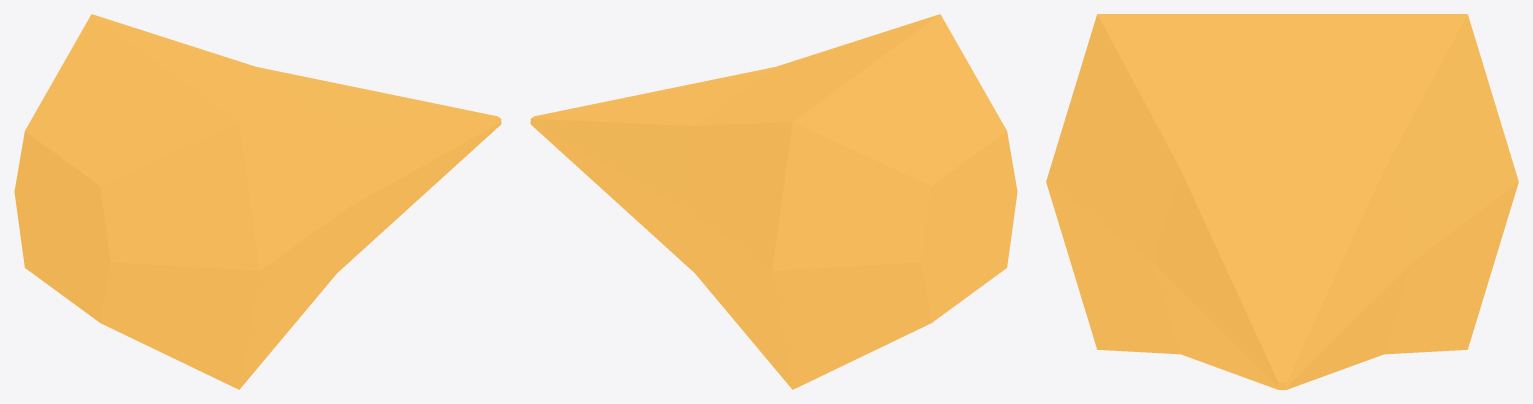
The model's file is bulletFlash.glb.
3 views of the same model, side by side, from view 1: azimuth 30°, elevation 25°; view 2: azimuth 150°, elevation 25°; view 3: azimuth 270°, elevation 25° (orthographic). The views are drawn at different scales.
Visible parts, largest first — view 1: Cube; view 2: Cube; view 3: Cube.
Boxes of the visible parts, left/top/right/bottom form: Cube: left=14, top=14, right=501, bottom=389; Cube: left=530, top=14, right=1017, bottom=389; Cube: left=1046, top=14, right=1518, bottom=389.
Bounding box in the file's own units: 0.4418 × 0.2588 × 0.3303.
